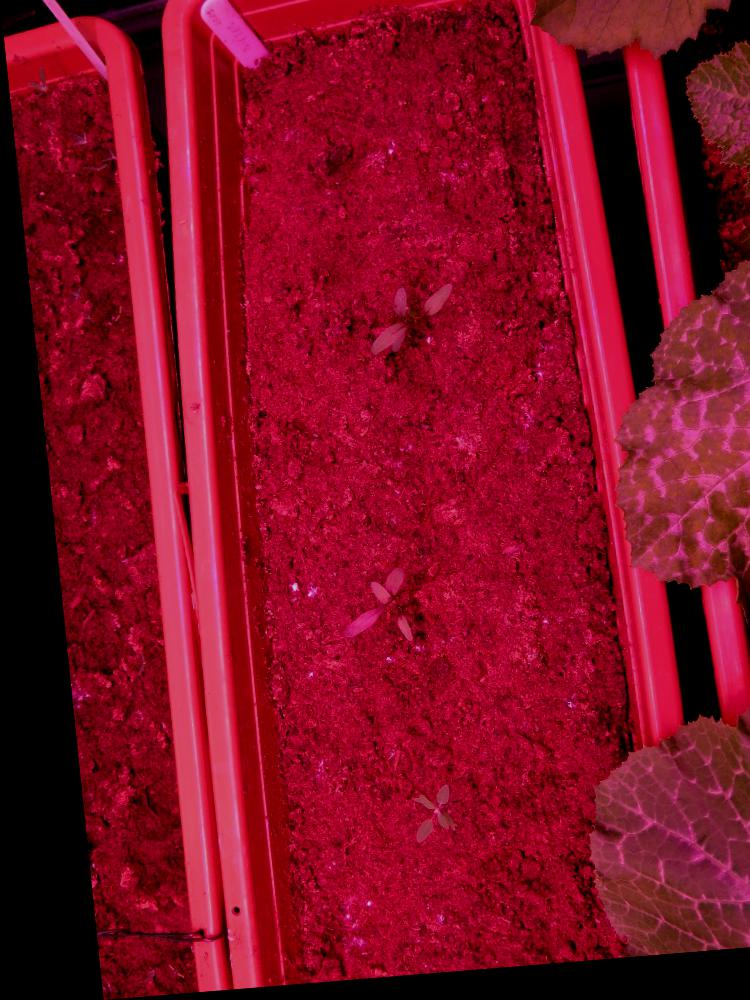weed: (390, 786, 438, 852)
